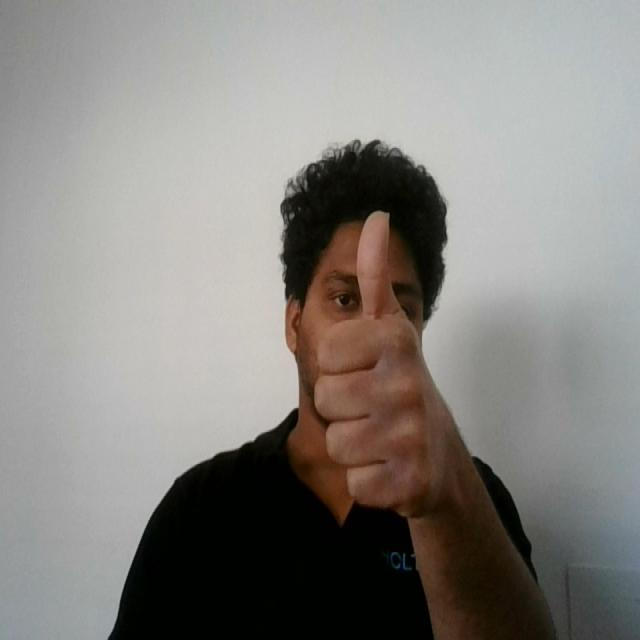Yes: (304, 205, 474, 526)
